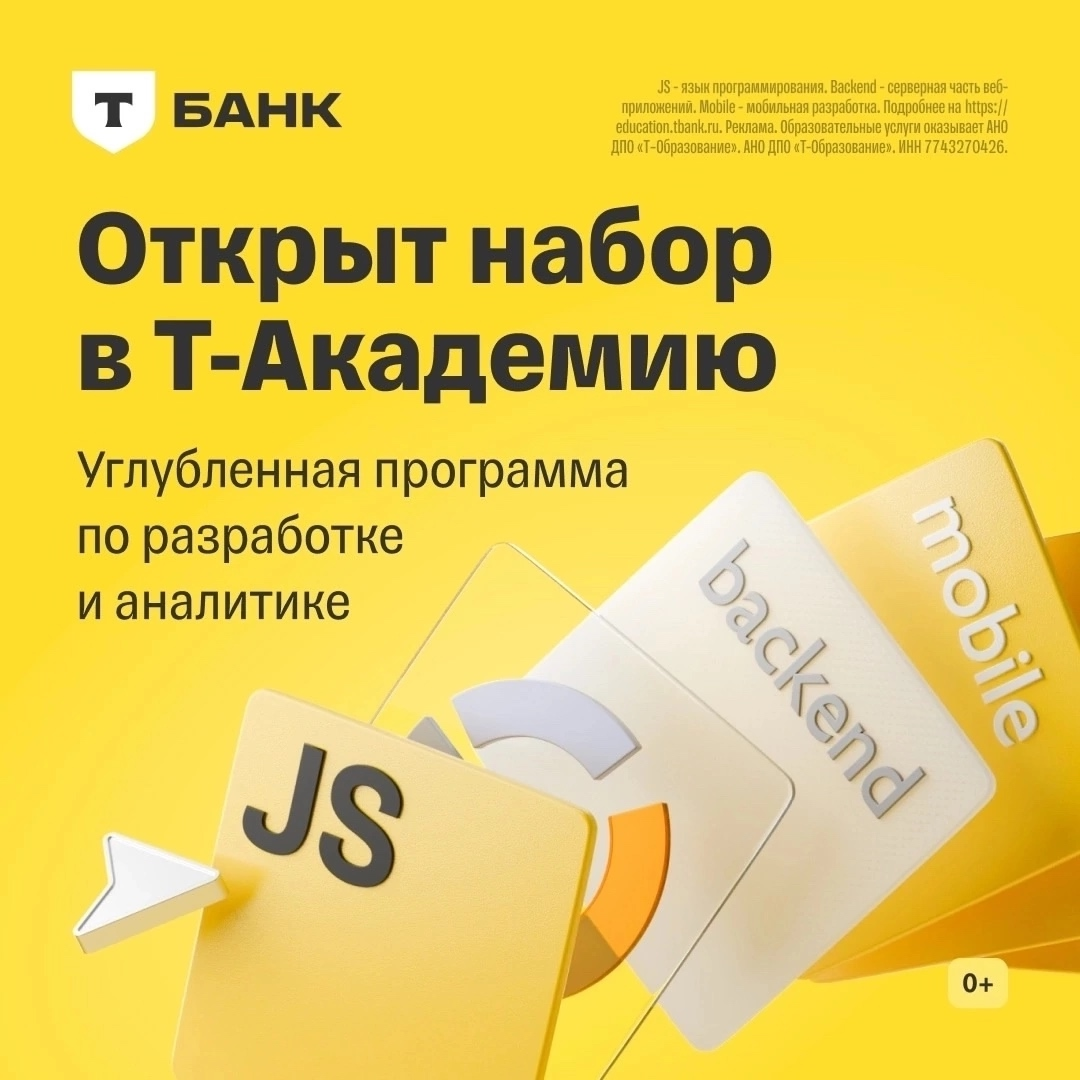TBank: (73, 71, 155, 154)
